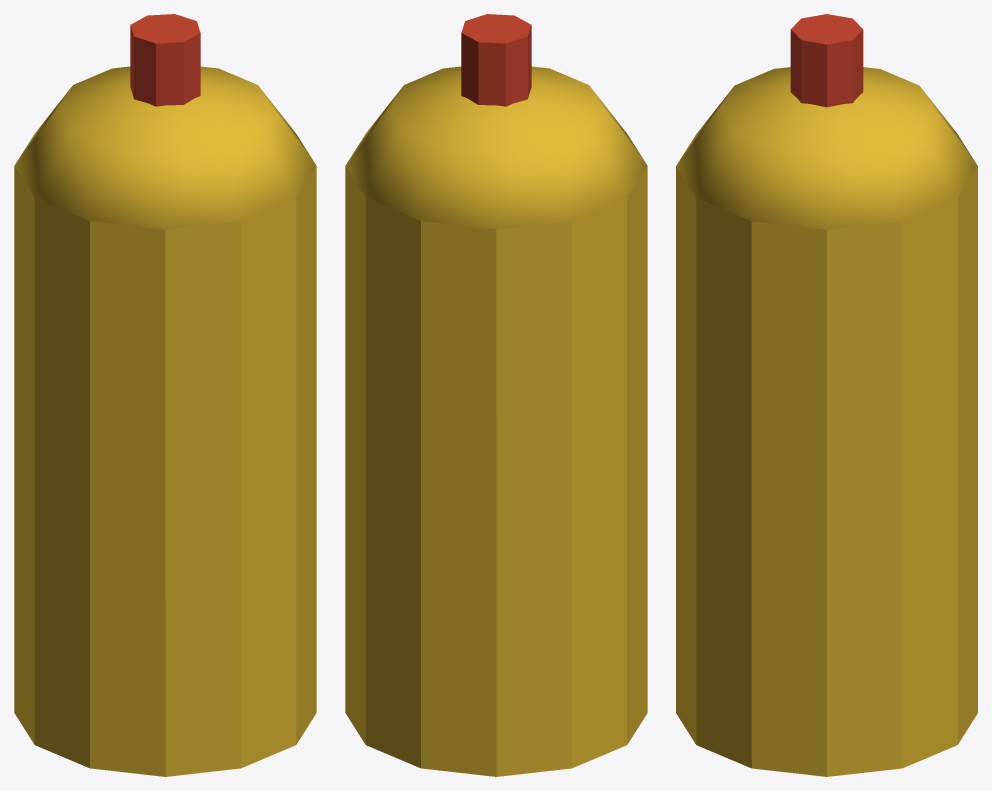
The model's file is Prop_GasCanister.fbx.
The picture shows the model from 3 angles, left to right: view 1: azimuth 30°, elevation 25°; view 2: azimuth 150°, elevation 25°; view 3: azimuth 270°, elevation 25°; orthographic projection.
Visible parts, largest first — view 1: Prop_GasCanister; view 2: Prop_GasCanister; view 3: Prop_GasCanister.
Boxes of the visible parts, box(x1,y1,x2,y2) form: Prop_GasCanister: box(14, 14, 316, 776); Prop_GasCanister: box(345, 14, 647, 776); Prop_GasCanister: box(676, 14, 977, 776).
Size of the model in its own units: 0.1 by 0.25 by 0.1.
